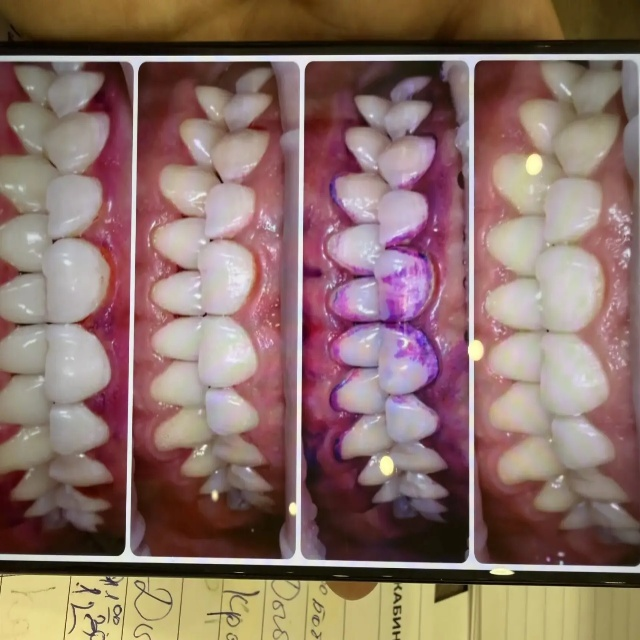clean_tooth: (490, 100, 616, 375), (490, 393, 578, 505), (0, 113, 91, 210), (153, 366, 214, 471), (0, 326, 58, 419), (498, 351, 567, 421), (0, 421, 94, 466), (541, 66, 614, 111), (0, 214, 52, 269), (0, 275, 54, 322), (208, 127, 263, 160), (576, 468, 617, 497), (487, 290, 517, 326), (158, 330, 193, 360), (199, 88, 227, 123), (164, 166, 187, 199)
plaque: (325, 135, 465, 464), (309, 339, 362, 458)
